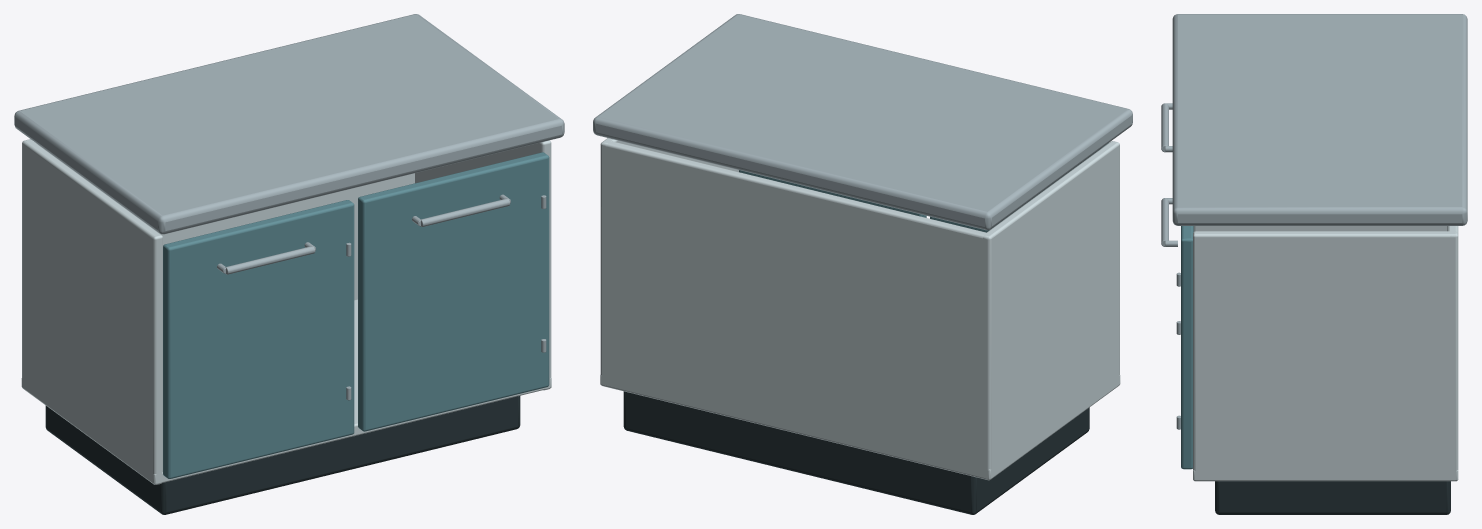
The model's file is CP_LabBench.fbx.
3 views of the same model, side by side, from view 1: azimuth 30°, elevation 25°; view 2: azimuth 150°, elevation 25°; view 3: azimuth 270°, elevation 25° (orthographic).
Visible parts, largest first — view 1: CP_LabBench; view 2: CP_LabBench; view 3: CP_LabBench.
Part boxes in pixels (bbox=[...]): CP_LabBench: bbox=[14, 14, 564, 514]; CP_LabBench: bbox=[593, 14, 1132, 514]; CP_LabBench: bbox=[1161, 14, 1467, 514].
Bounding box in the file's own units: 126 × 95.25 × 83.05.
